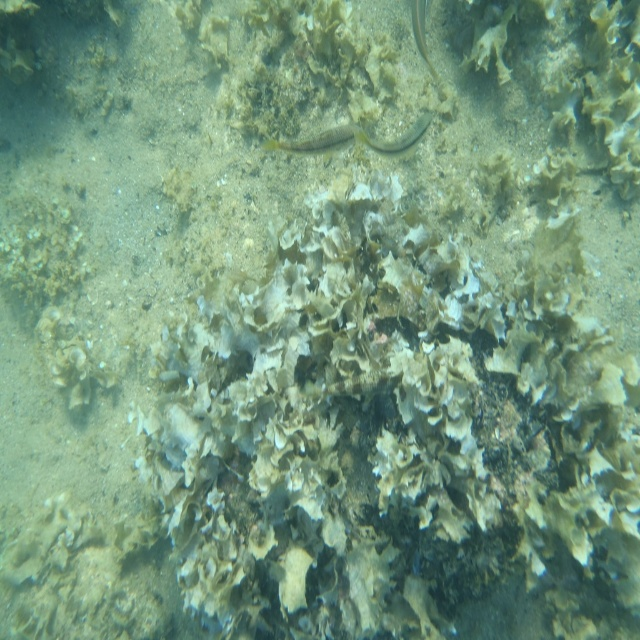Fish: (358, 111, 438, 156), (261, 118, 360, 154), (410, 0, 438, 74)
